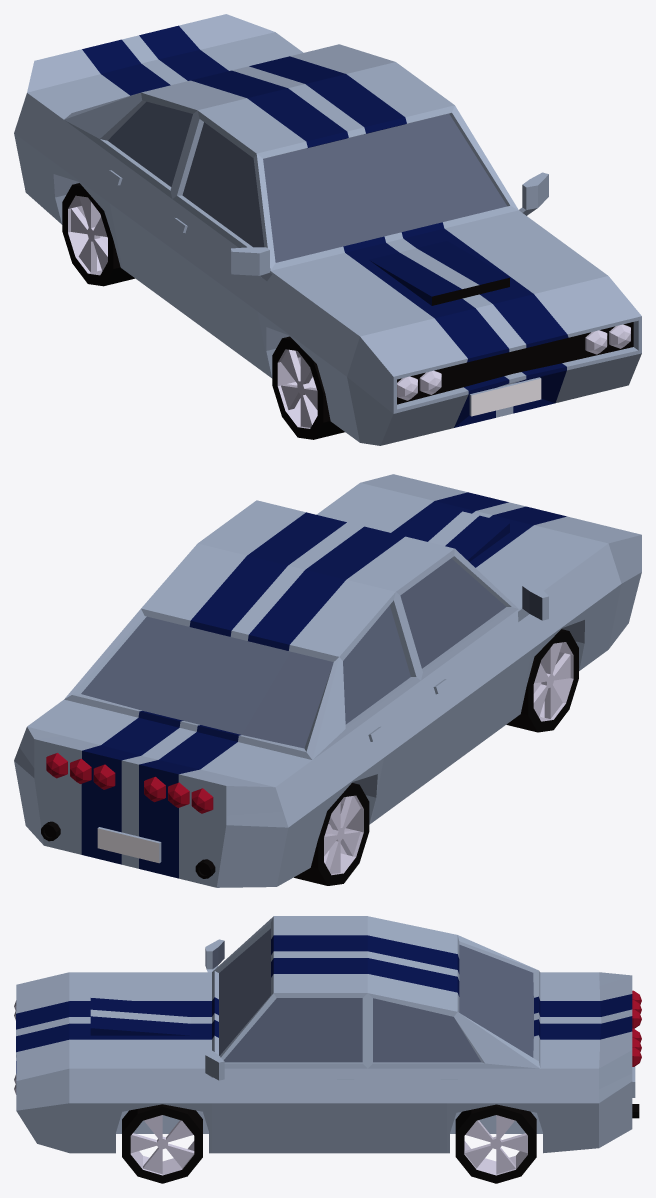
Rendered from rgsdev_muscle_2.glb.
The picture shows the model from 3 angles, top to bottom: view 1: azimuth 30°, elevation 25°; view 2: azimuth 150°, elevation 25°; view 3: azimuth 270°, elevation 25°; orthographic projection. The views are drawn at different scales.
Visible parts, largest first — view 1: Muscle 2, Muscle 2 wheel front right, Muscle 2 wheel rear right; view 2: Muscle 2, Muscle 2 wheel front right, Muscle 2 wheel rear right; view 3: Muscle 2, Muscle 2 wheel front left, Muscle 2 wheel rear left.
Part boxes in pixels (box(x1,y1,x2,y2)): Muscle 2: box(14, 14, 641, 445); Muscle 2 wheel front right: box(272, 336, 344, 439); Muscle 2 wheel rear right: box(62, 183, 134, 286); Muscle 2: box(14, 474, 641, 887); Muscle 2 wheel front right: box(506, 629, 578, 732); Muscle 2 wheel rear right: box(294, 783, 369, 885); Muscle 2: box(14, 916, 641, 1153); Muscle 2 wheel front left: box(122, 1104, 202, 1183); Muscle 2 wheel rear left: box(455, 1104, 536, 1183).
Size of the model in its own units: 2.81 by 1.91 by 6.06.
